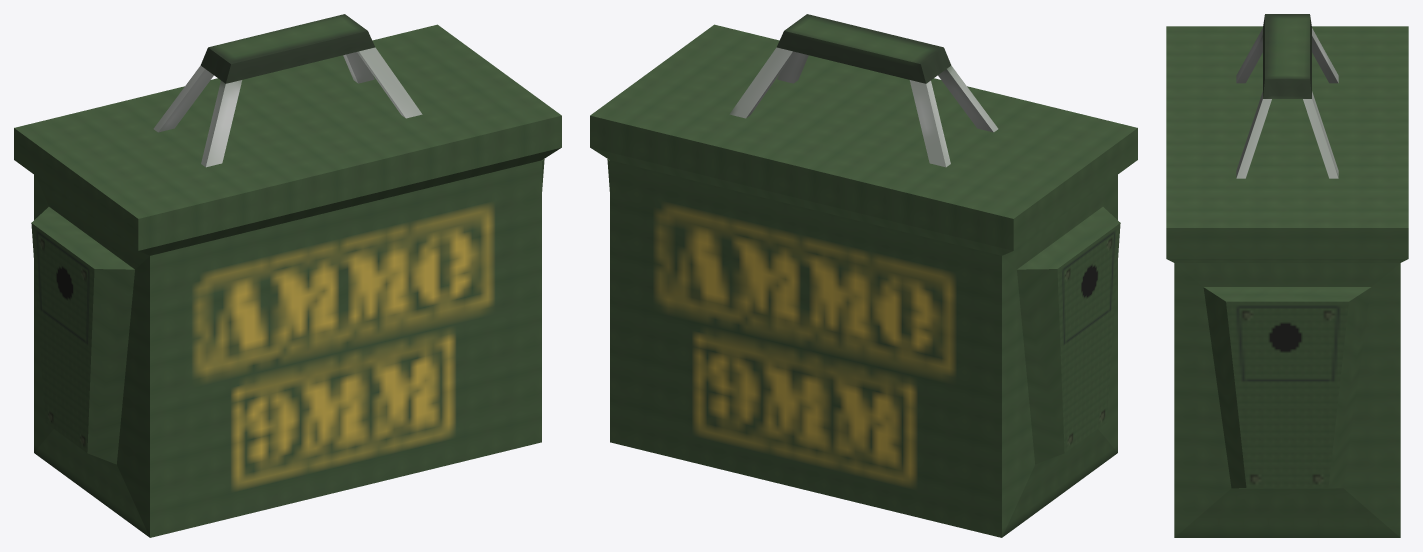
The model's file is Ammo9mmCan.fbx.
3 views of the same model, side by side, from view 1: azimuth 30°, elevation 25°; view 2: azimuth 150°, elevation 25°; view 3: azimuth 270°, elevation 25° (orthographic). The views are drawn at different scales.
Parts seen in each view (by area): view 1: Cube; view 2: Cube; view 3: Cube.
Boxes of the visible parts, x1=… form: Cube: x1=14, y1=14, x2=561, y2=537; Cube: x1=590, y1=14, x2=1137, y2=537; Cube: x1=1166, y1=14, x2=1408, y2=537.
Size of the model in its own units: 0.6597 by 0.5722 by 0.3157.
